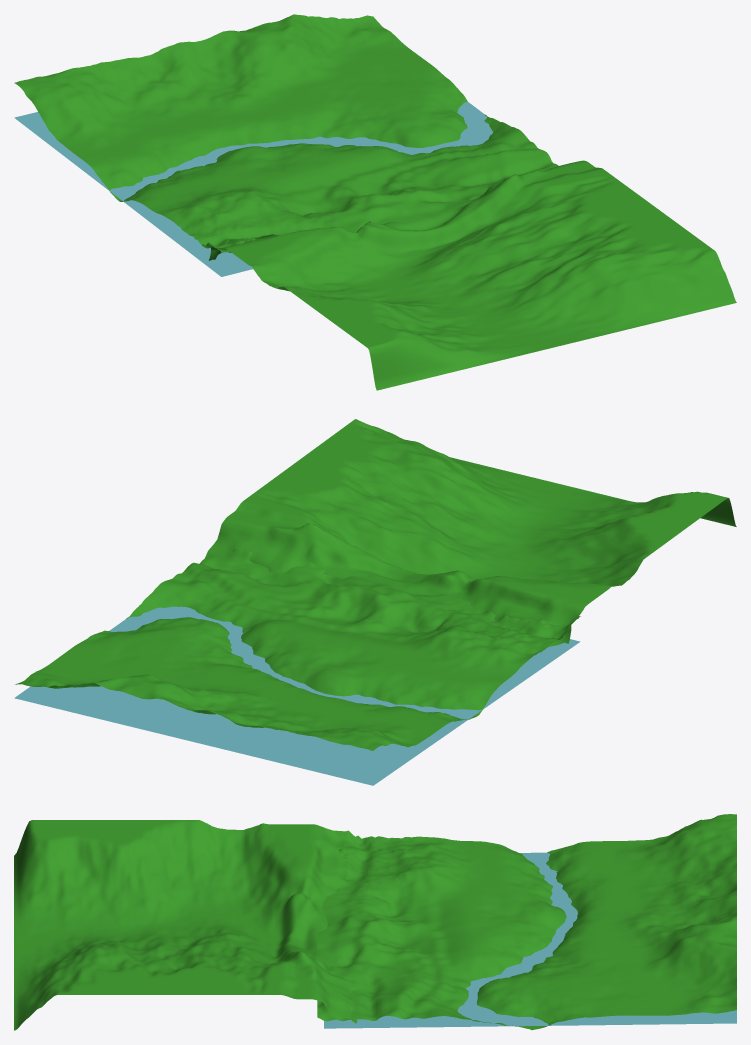
Rendered from Landscapedeneme.fbx.
3 views of the same model, one above another, from view 1: azimuth 30°, elevation 25°; view 2: azimuth 150°, elevation 25°; view 3: azimuth 270°, elevation 25° (orthographic).
Parts seen in each view (by area): view 1: Landscape_plane.001; view 2: Landscape_plane.001; view 3: Landscape_plane.001.
Boxes of the visible parts, box(x1,y1,x2,y2) form: Landscape_plane.001: box(14, 14, 736, 390); Landscape_plane.001: box(14, 419, 736, 785); Landscape_plane.001: box(14, 814, 736, 1030).
Size of the model in its own units: 2602 by 295 by 4540.
